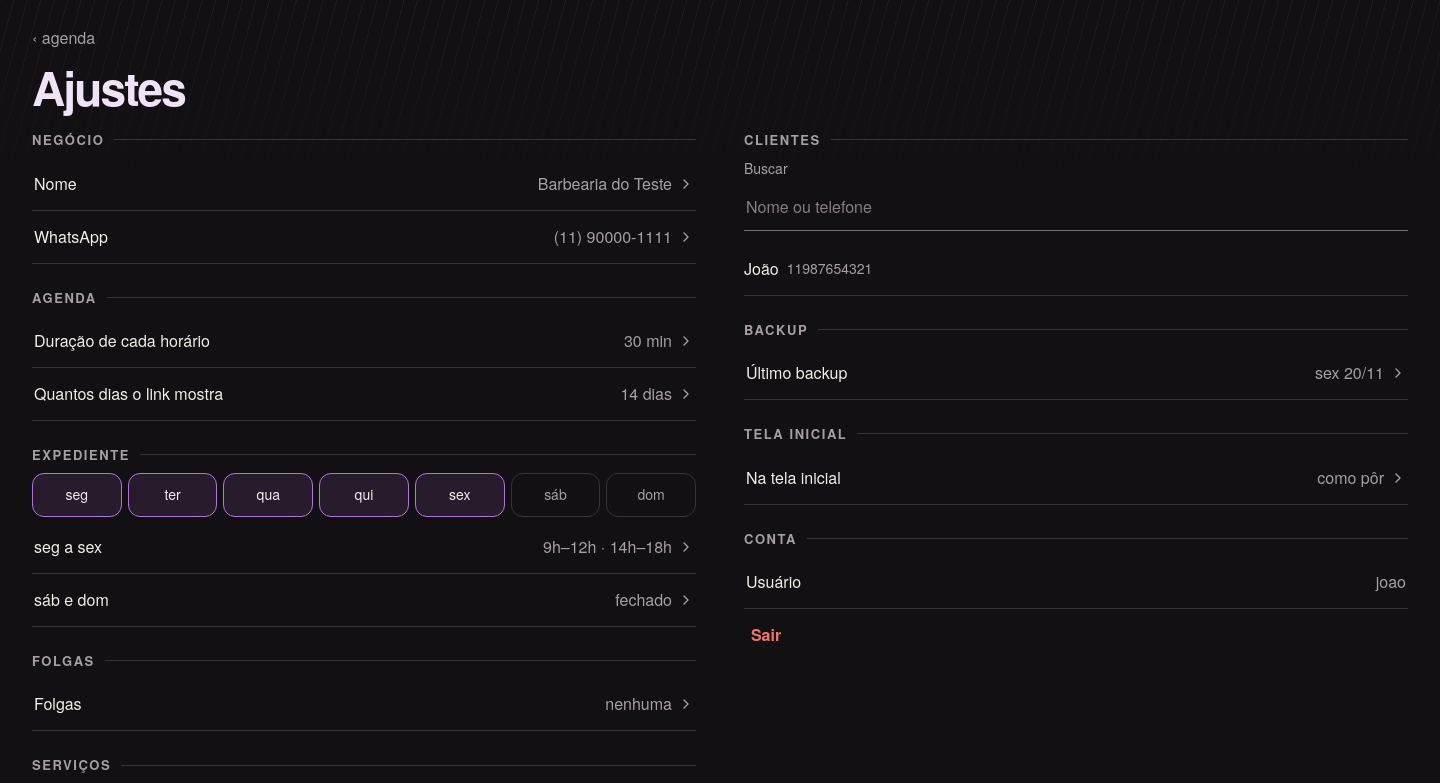
Ajustes: cada painel salva só o que mostra › WhatsApp: grava exatamente esse campo, recarrega e fecha
The image size is (1440, 783).
Click the button with aria-label "WhatsApp,". click: (71, 236)
box: x1=32 y1=211 x2=696 y2=263
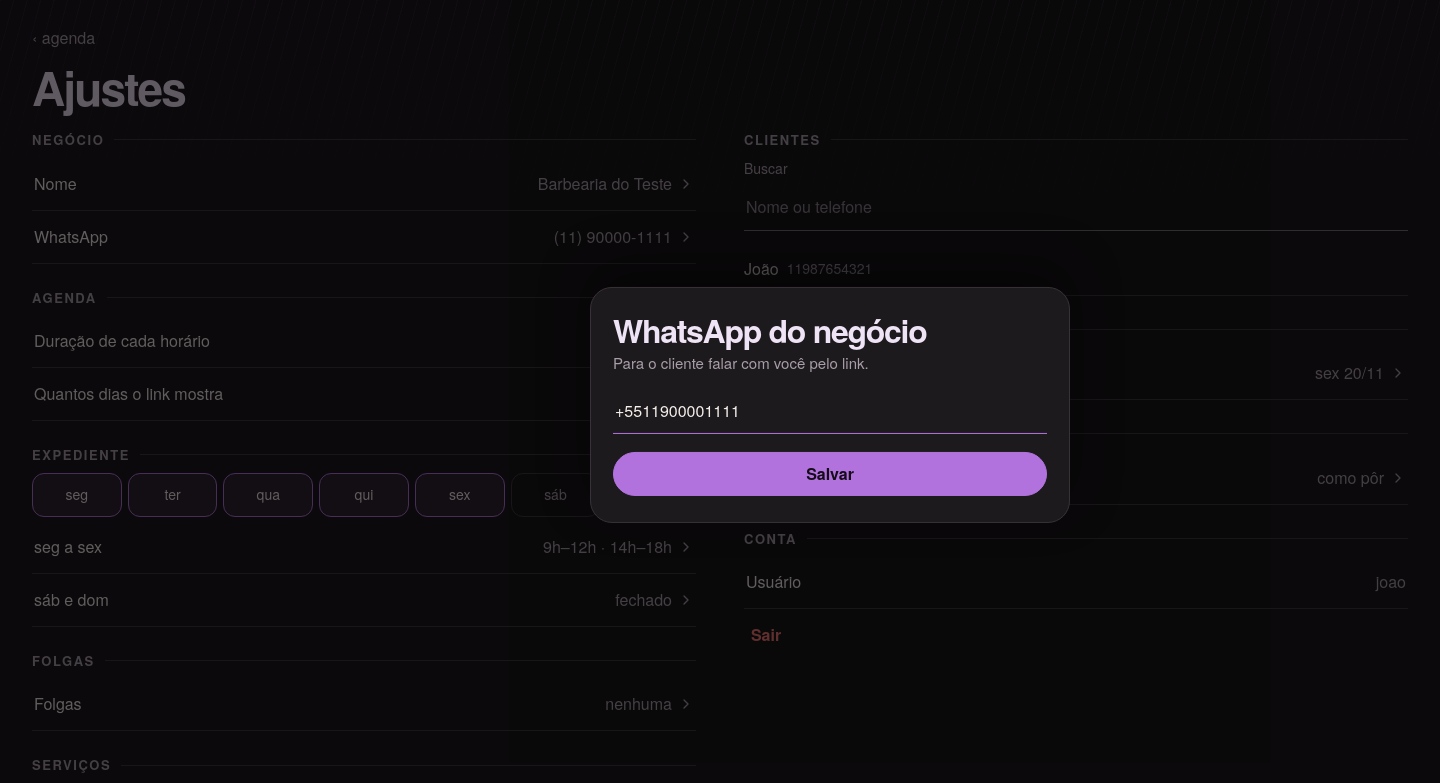
Replace the text in the field named "WhatsApp do negócio" with "(11) 90000-2222". click: (830, 411)
box: x1=613 y1=388 x2=1047 y2=434
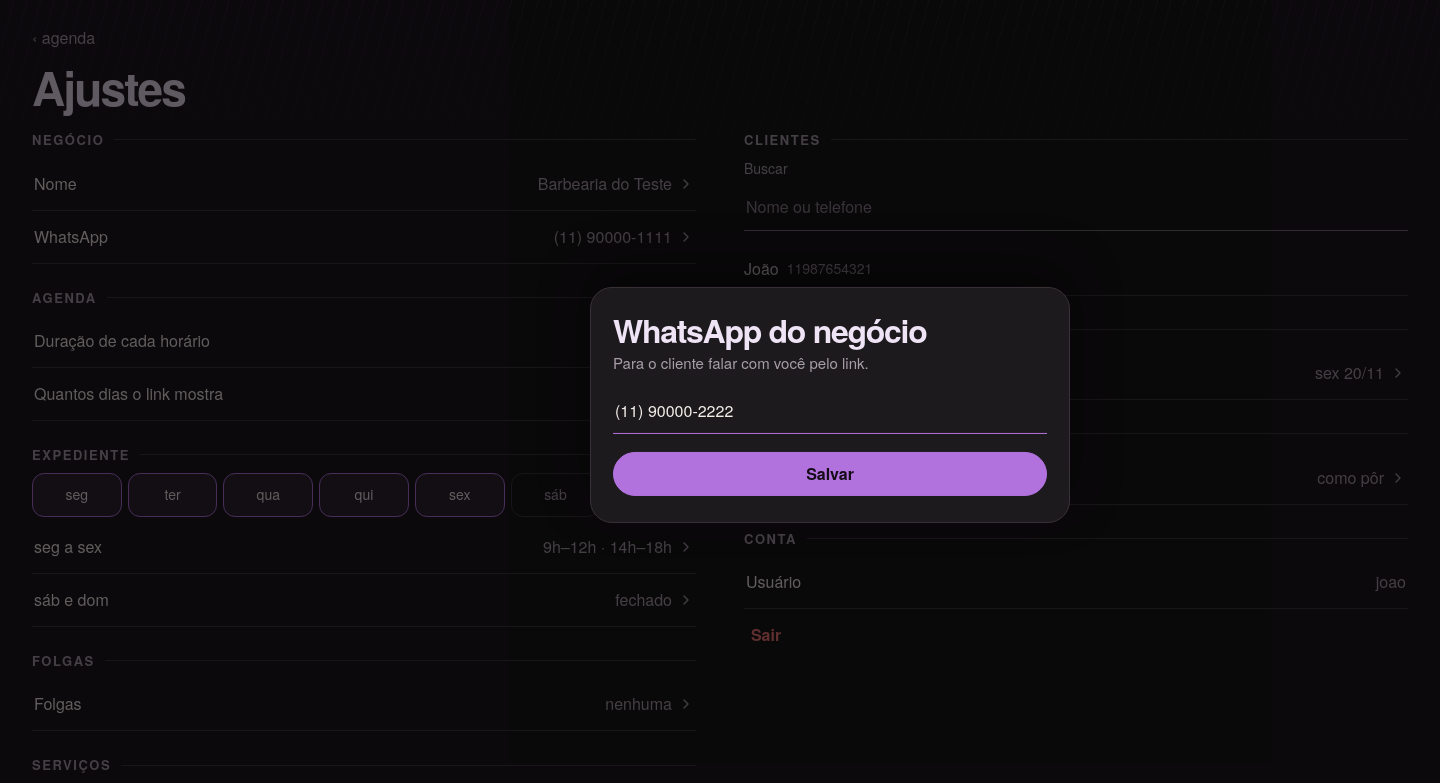
Click the button "Salvar". click: (830, 474)
box: x1=613 y1=452 x2=1047 y2=496
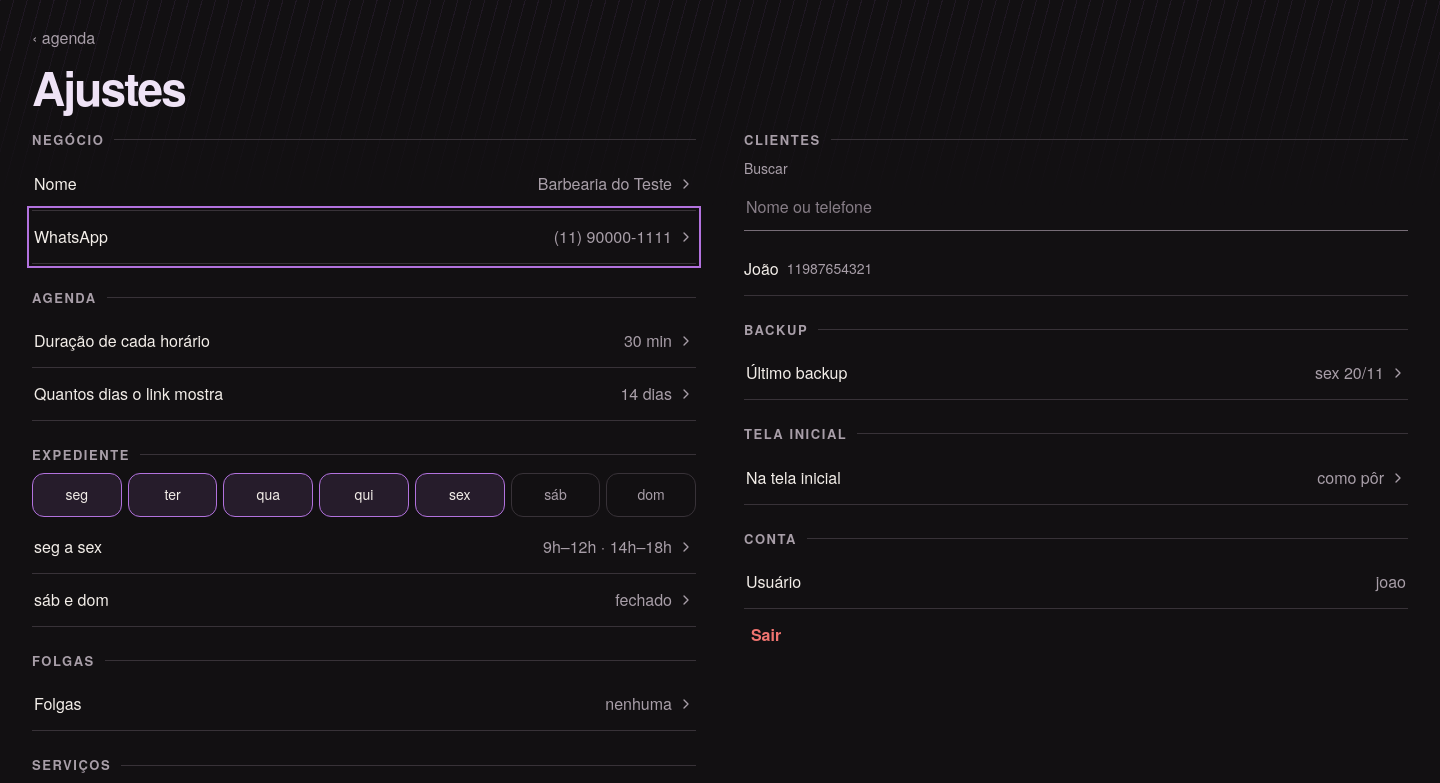
Check: the dialog is gone
